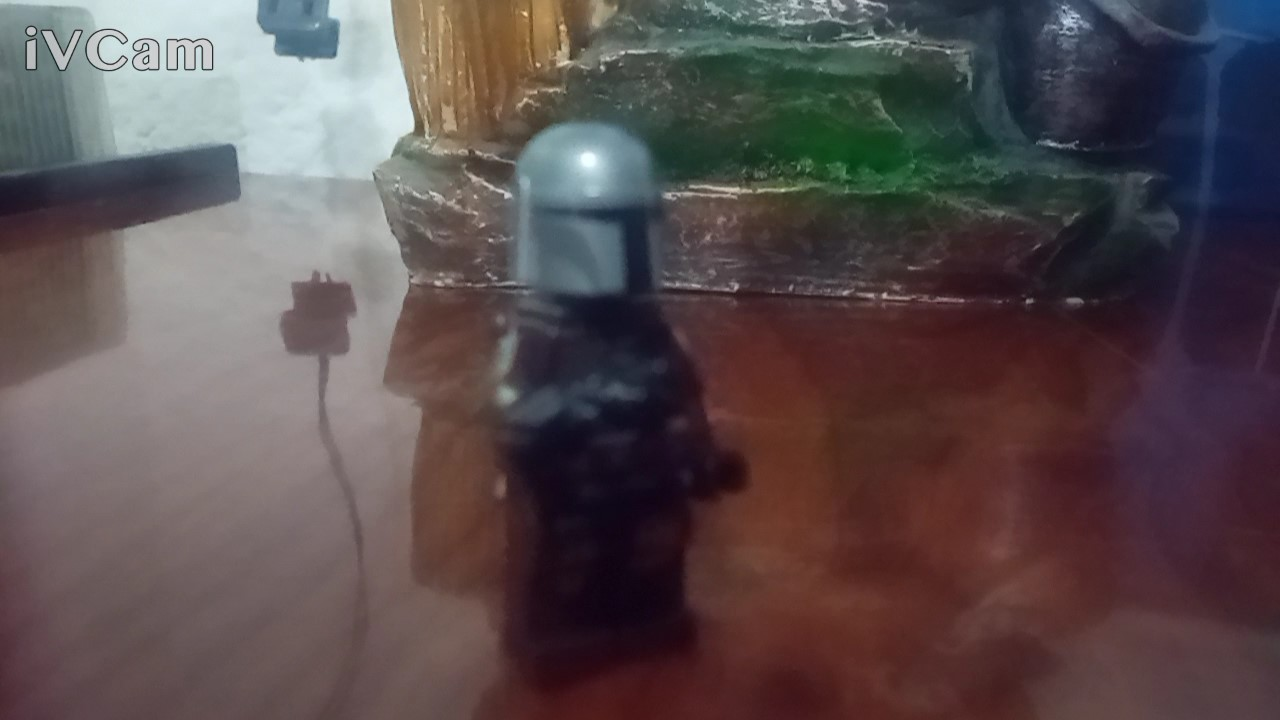mandalorian: (474, 102, 757, 696)
